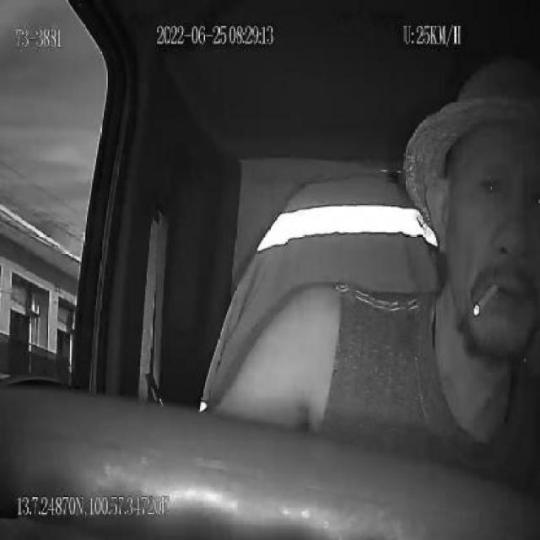smoking: (474, 282, 498, 320)
